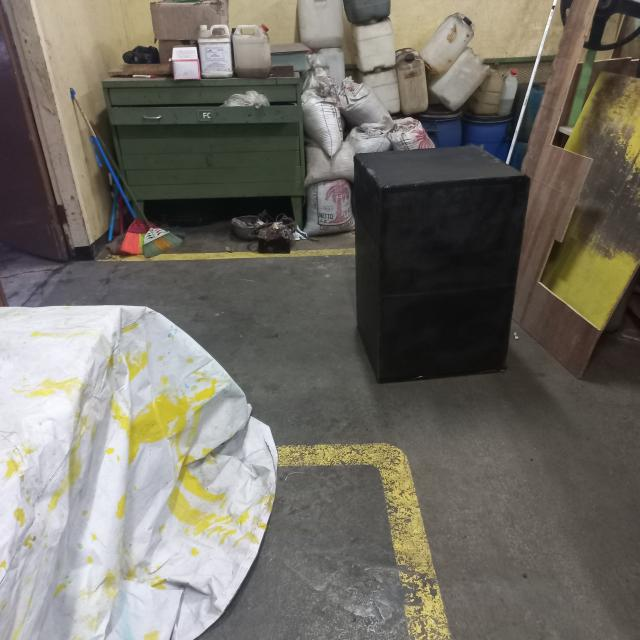obstacle: (351, 140, 534, 387)
